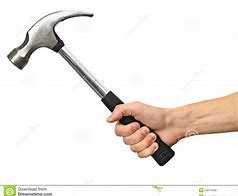hammer: (5, 7, 177, 168)
